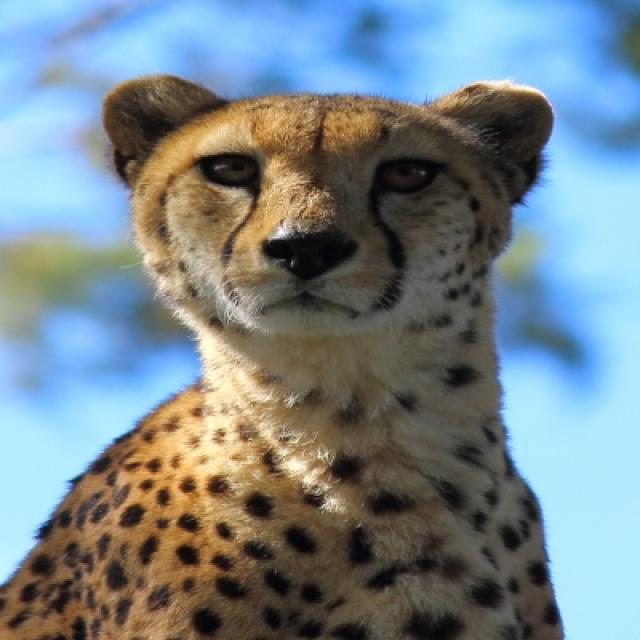Cheetah: (0, 74, 566, 638)
